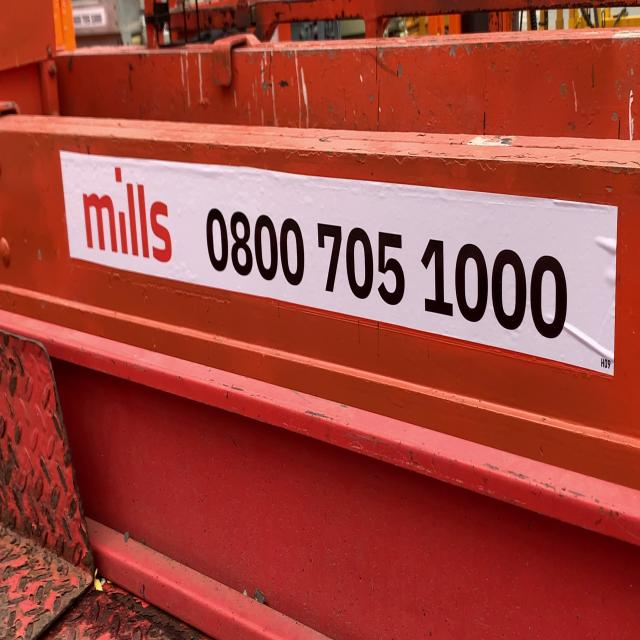Adesivo Longo: (56, 144, 621, 381)
